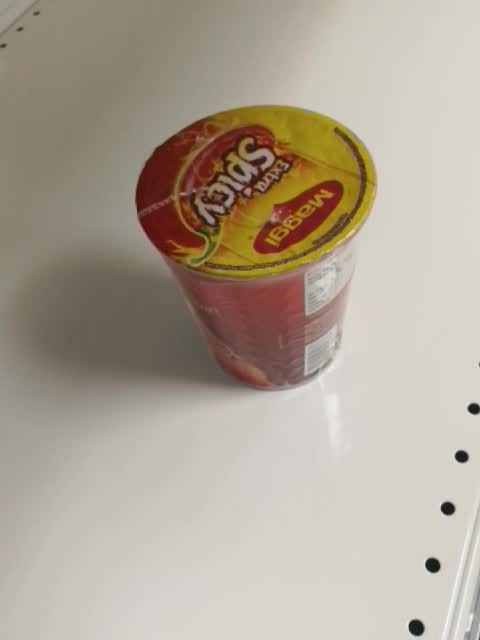maggi: (133, 103, 377, 392)
